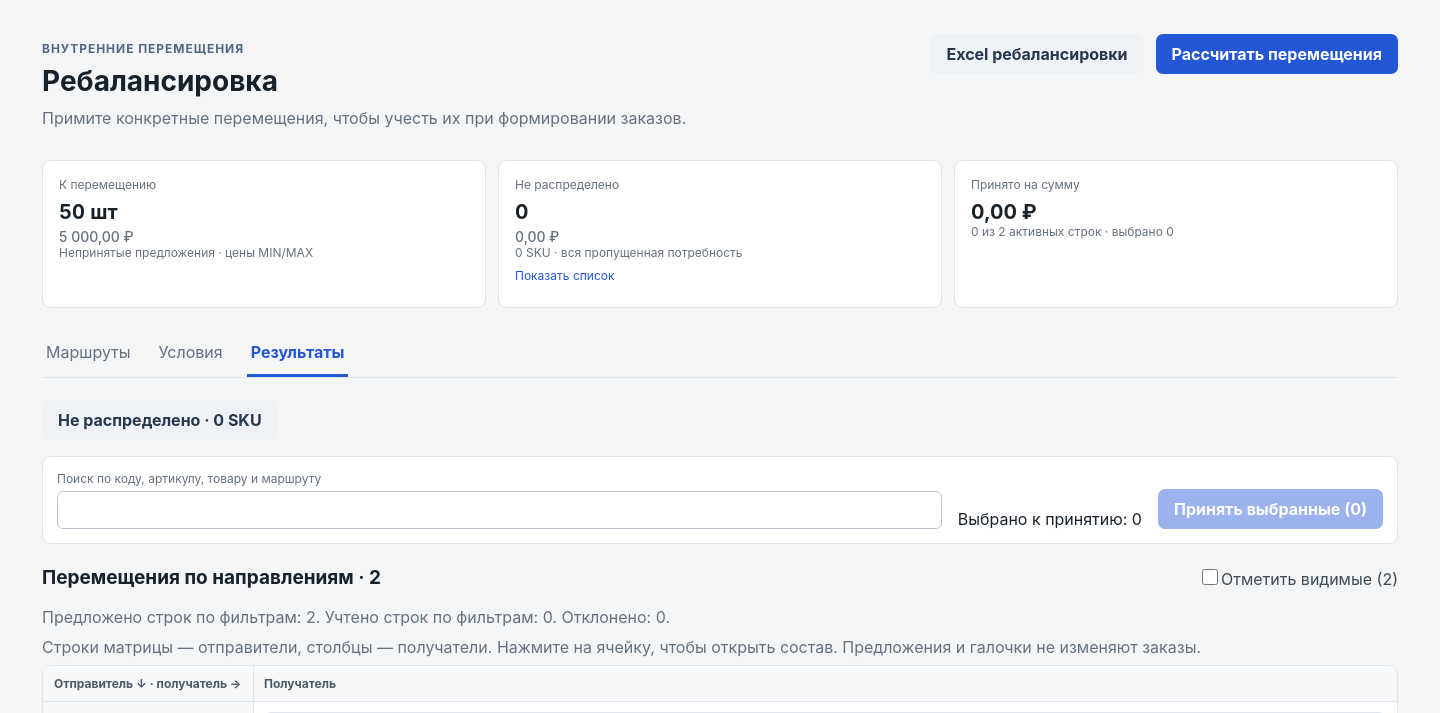
it: keeps the result search name stable while typing and clearing
Type "SKU1" into the field labelled "Поиск по коду, артикулу, товару и маршруту" at (499, 510), box [57,491,942,529]
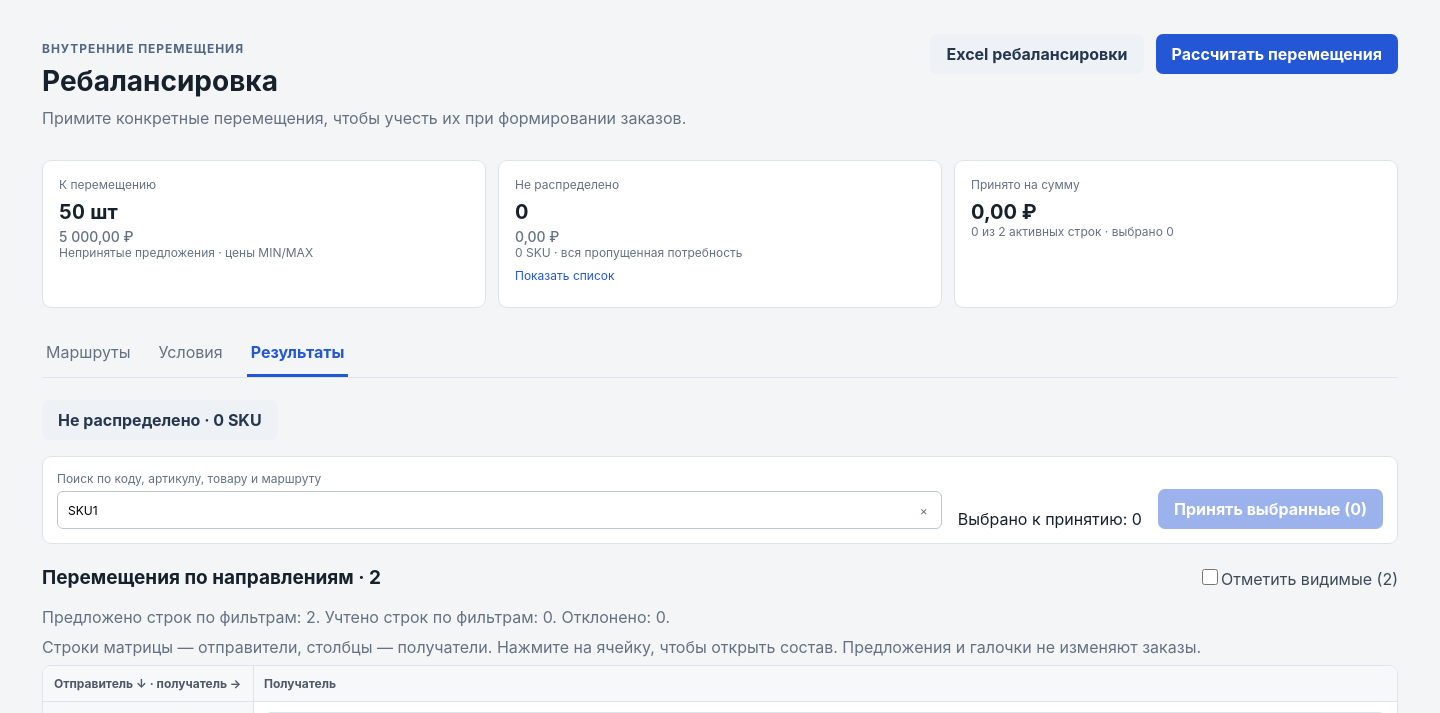
Click the button named "Очистить поиск" at (924, 510), box [909,494,939,526]
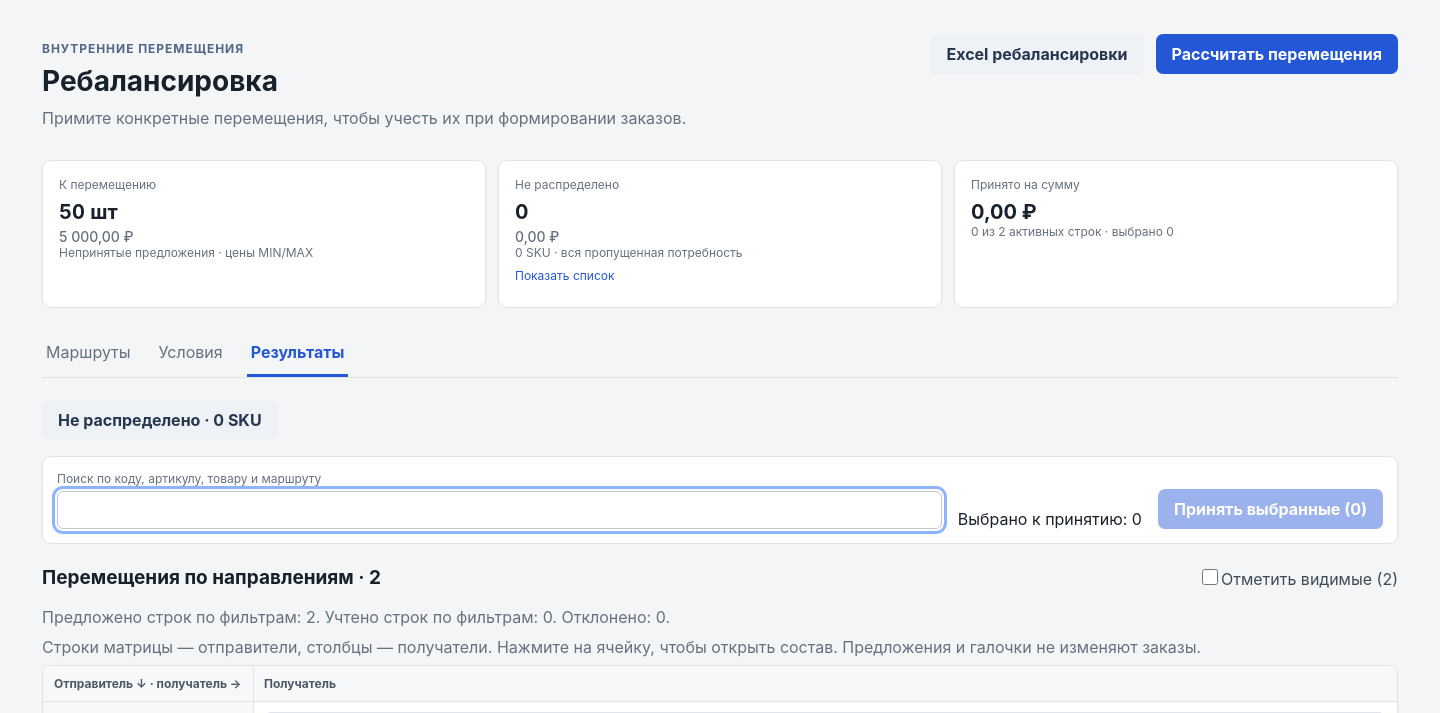
Check: the field labelled "Поиск по коду, артикулу, товару и маршруту" is empty, box [57,491,942,529]
